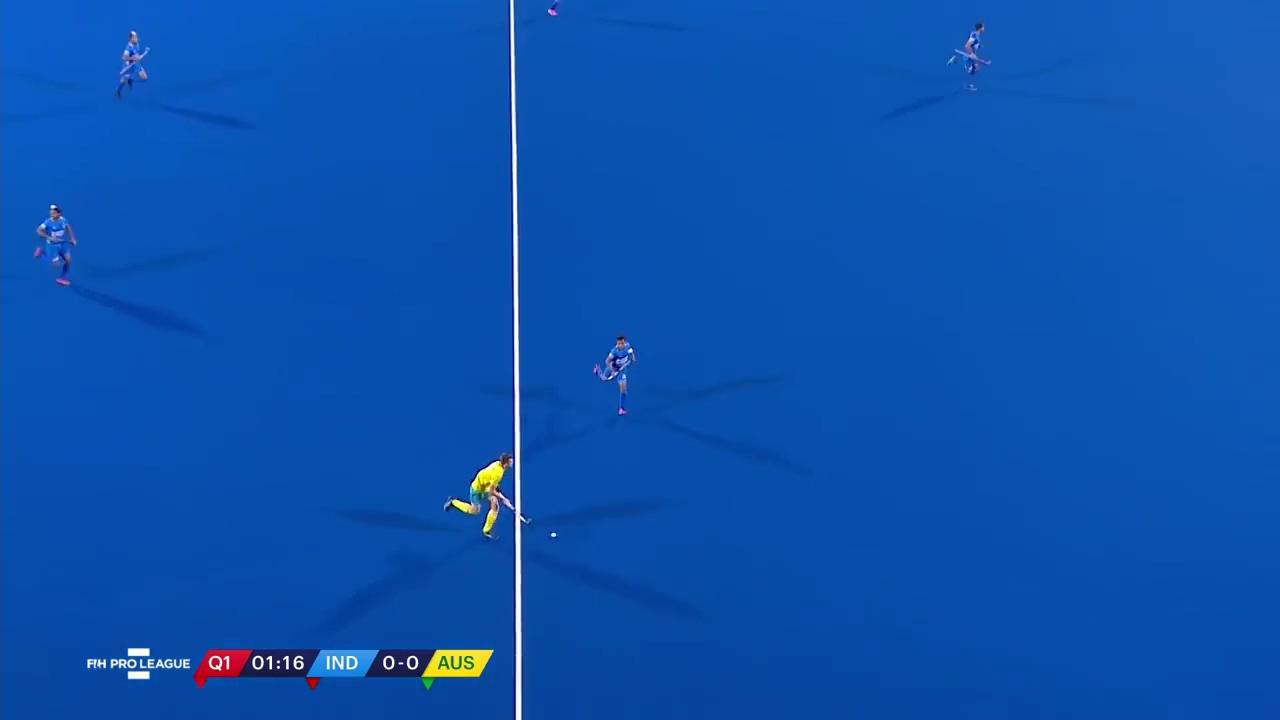ball: (549, 530, 559, 539)
